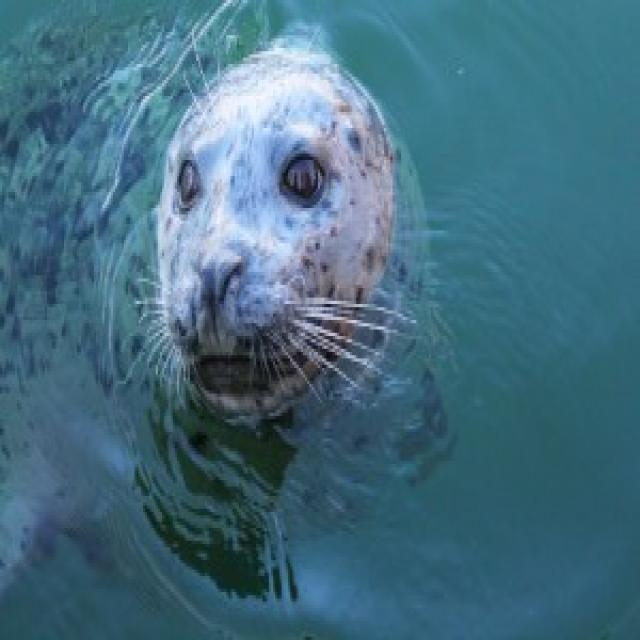Seal: (120, 32, 450, 513)
